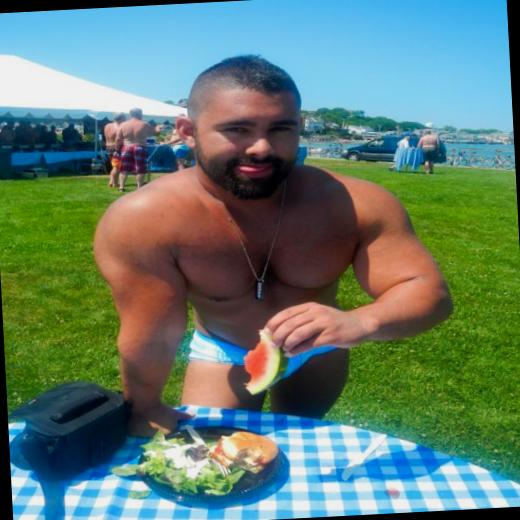Cherry: (238, 326, 284, 396)
